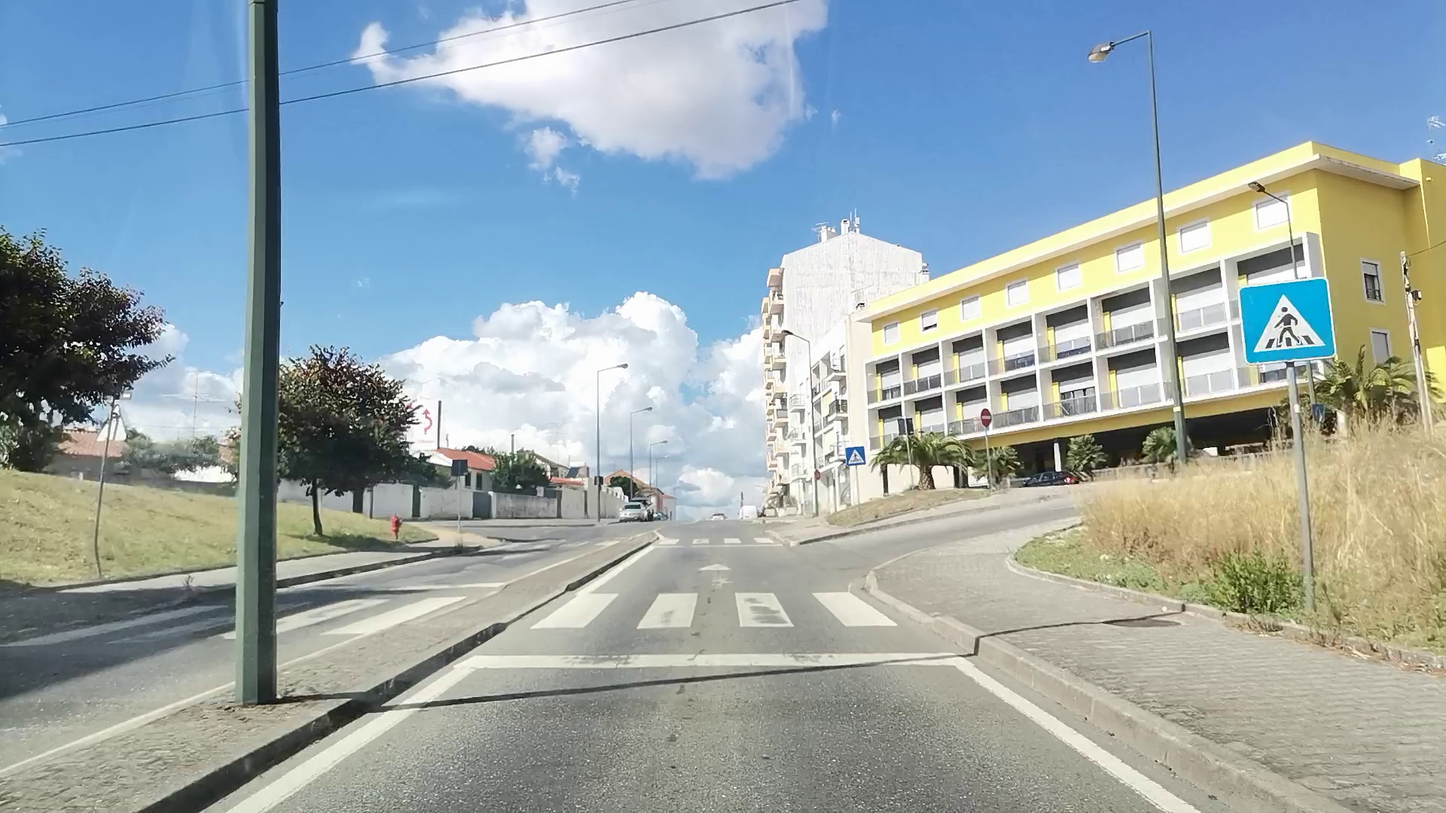Stairs: (16, 592, 467, 646), (528, 585, 895, 632), (658, 534, 781, 544)
